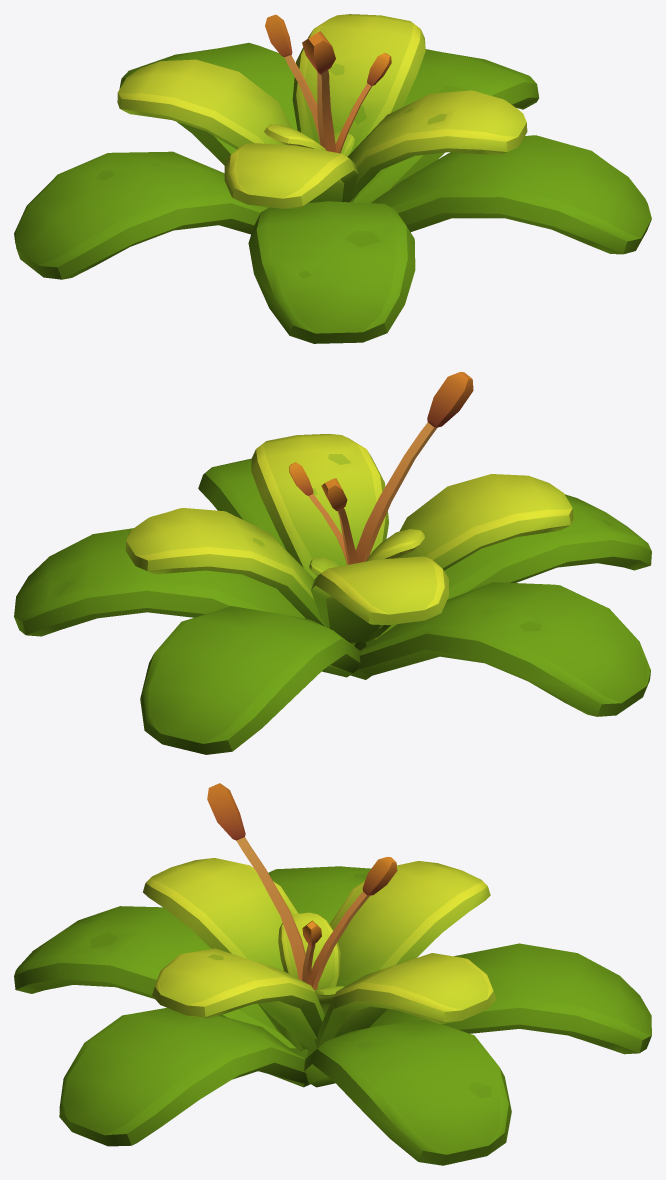
Rendered from garden_plant_4.glb.
3 views of the same model, one above another, from view 1: azimuth 30°, elevation 25°; view 2: azimuth 150°, elevation 25°; view 3: azimuth 270°, elevation 25° (orthographic). The views are drawn at different scales.
Parts seen in each view (by area): view 1: garden_plant_4; view 2: garden_plant_4; view 3: garden_plant_4.
Boxes of the visible parts, x1=… form: garden_plant_4: x1=14, y1=14, x2=651, y2=343; garden_plant_4: x1=14, y1=372, x2=651, y2=754; garden_plant_4: x1=14, y1=783, x2=651, y2=1165.
Bounding box in the file's own units: 1.85 × 0.8348 × 1.84.
Materials: 1 (1 with a texture image).
